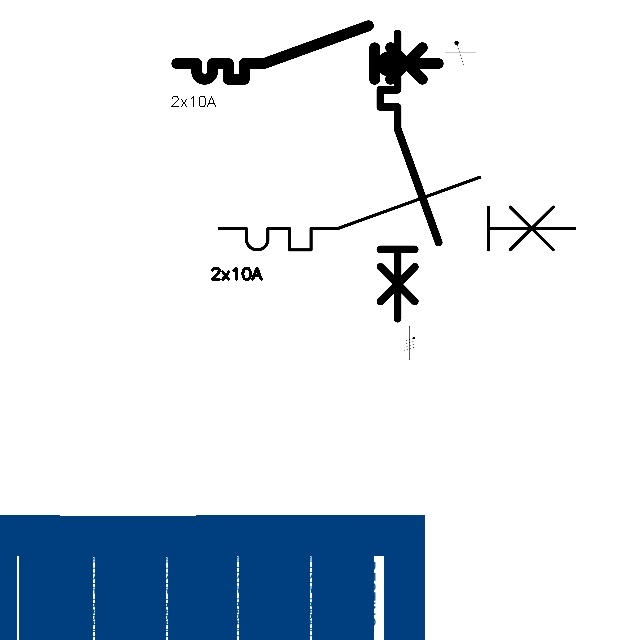interruptor_termomagnetico: (210, 168, 584, 259), (373, 26, 446, 326), (170, 19, 445, 86)
